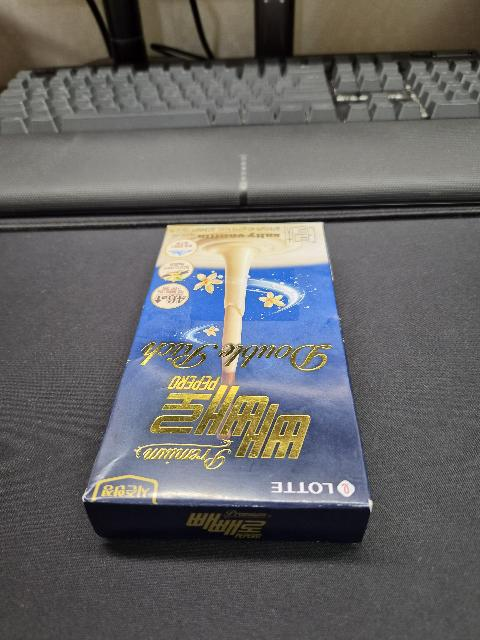pepero: (82, 221, 372, 543)
